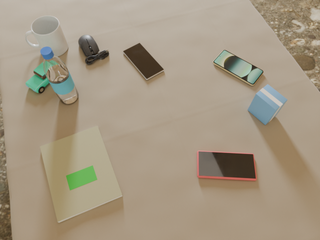book: (40, 126, 123, 222)
bottle: (40, 46, 78, 104)
box: (248, 84, 287, 125)
cup: (25, 16, 68, 56)
mouse: (78, 35, 109, 64)
phone: (213, 50, 263, 86), (197, 151, 257, 181), (123, 43, 164, 80)
toy_car: (26, 62, 49, 93)
